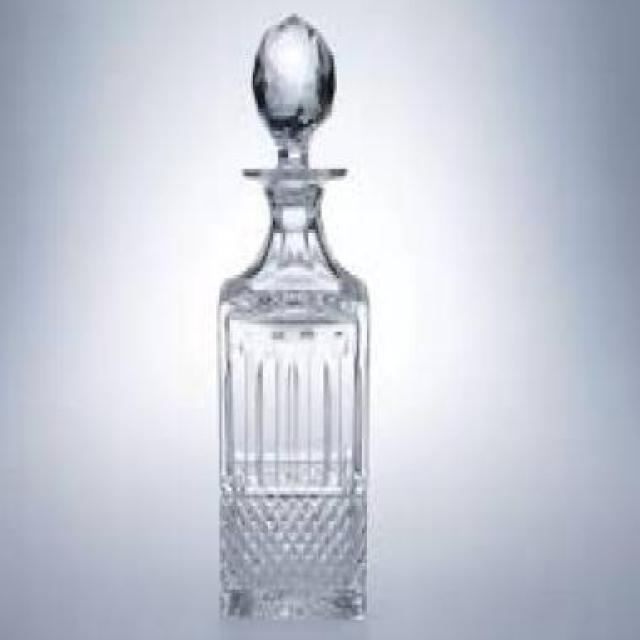kaca: (222, 10, 374, 620)
